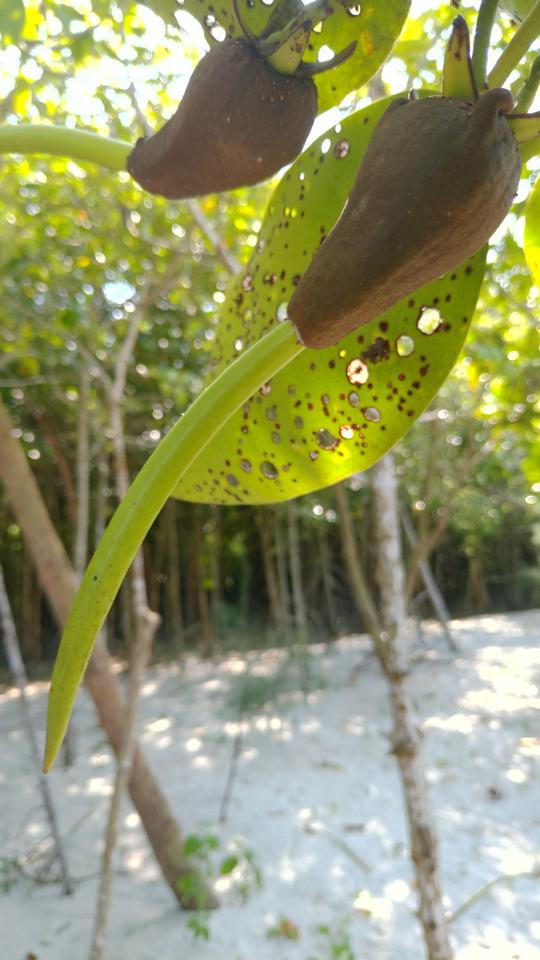mentah: (15, 58, 526, 785)
